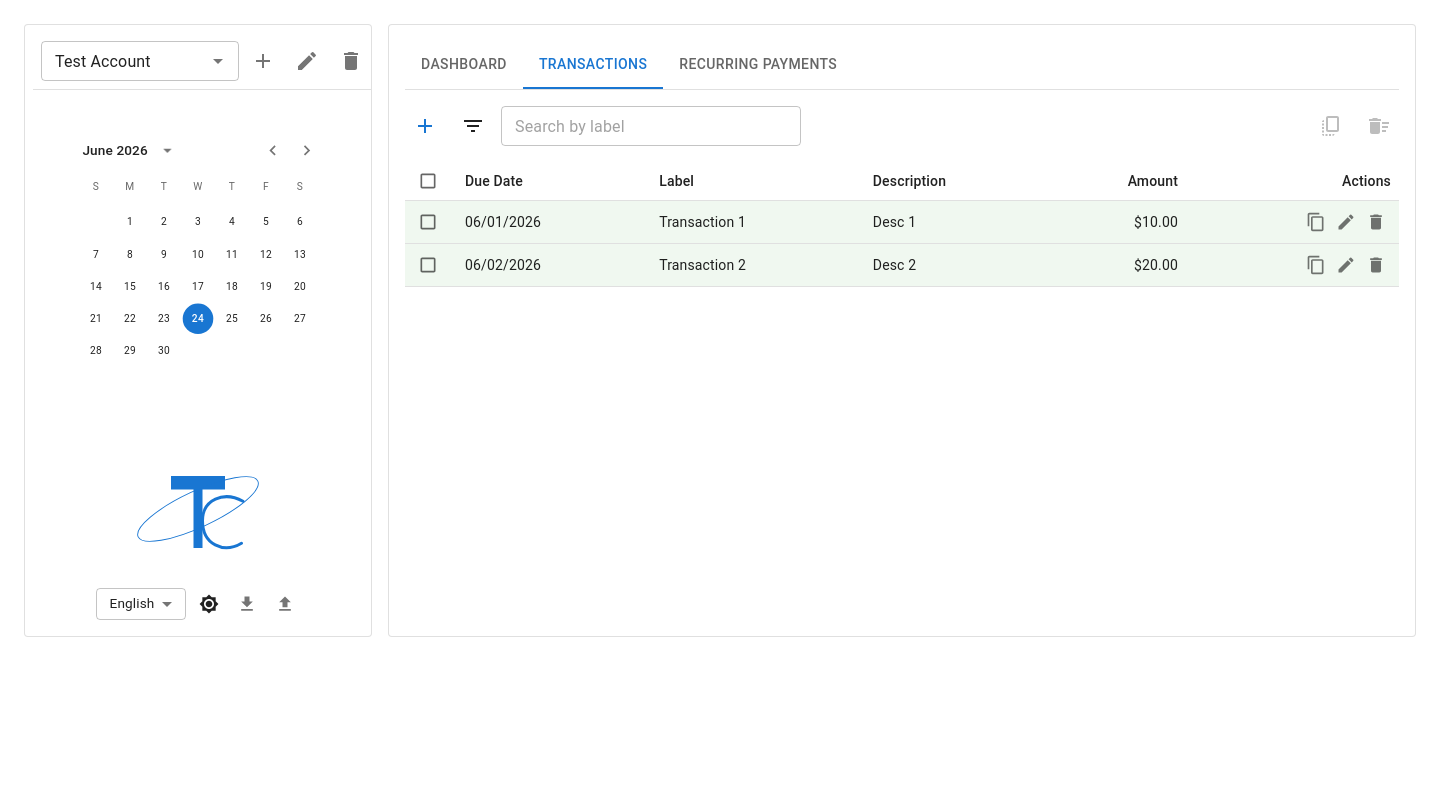
it: TransactionEditionArea › opens ConfirmDialog when delete icon is clicked
Check: the text "Transaction 1" is shown, box [643,201,857,244]
Click the button named "delete transaction" in the row of "06/01/2026".
click(1376, 222)  # box [1361,207,1391,237]
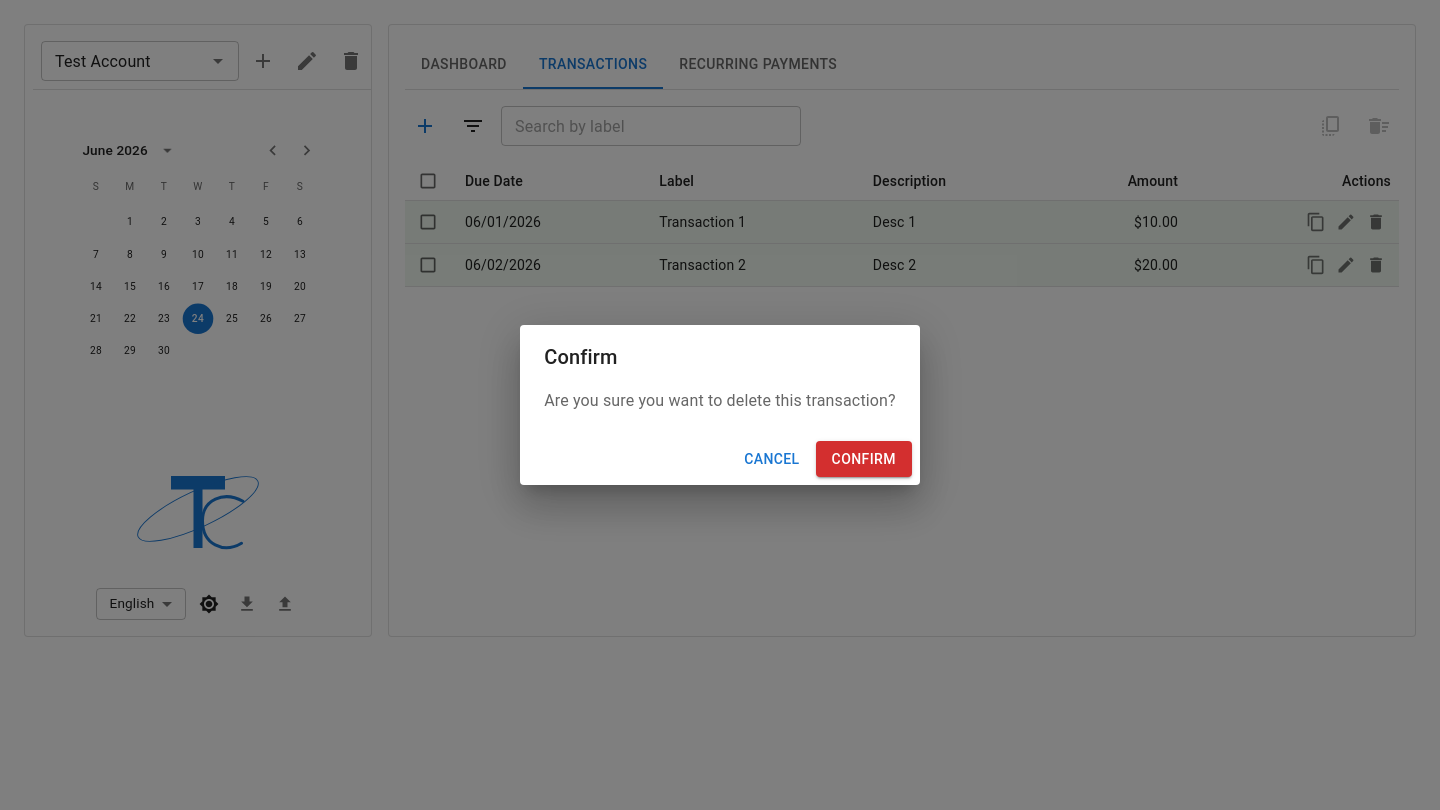
Check: the text "Are you sure you want to delete this transaction?" is shown, box [544,389,896,413]
